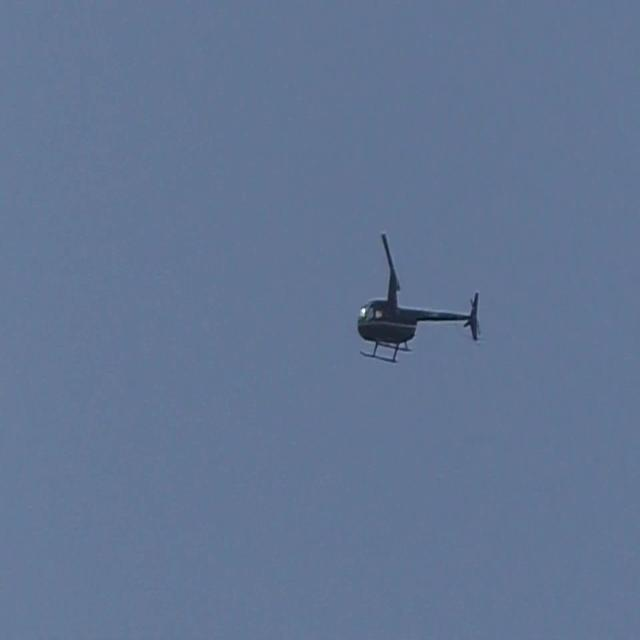CIV_HELO: (355, 266, 480, 365)
